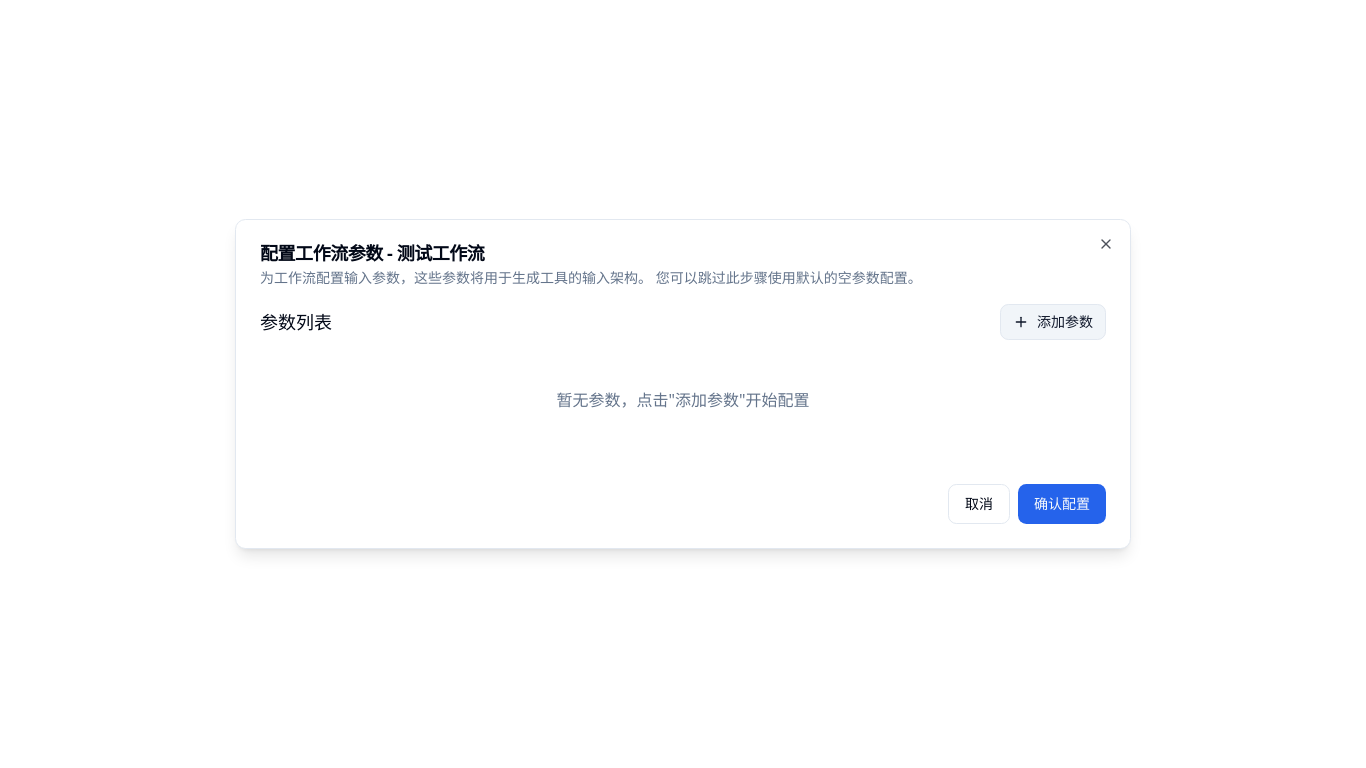
WorkflowParameterConfigDialog › 应该验证描述不能为空
Click the button "添加参数" at (1053, 322), box [1000,304,1106,340]
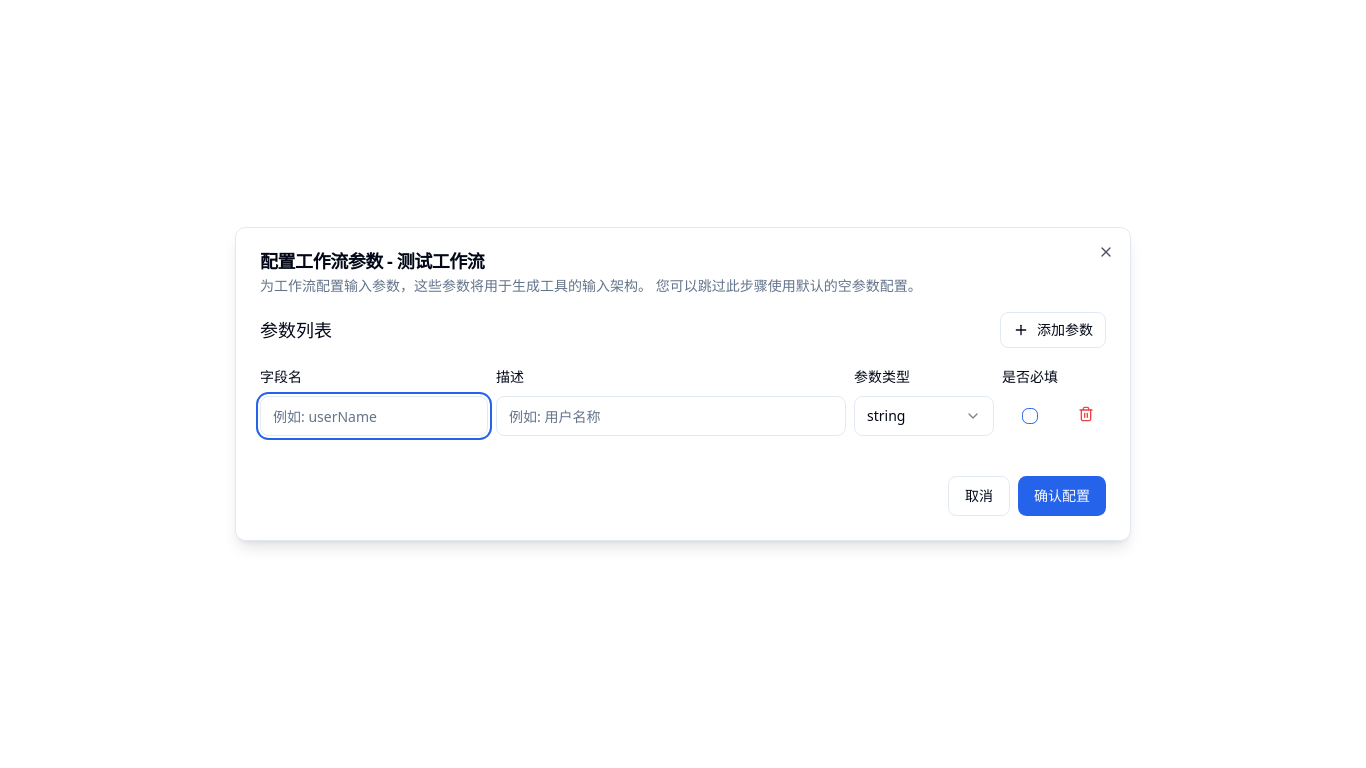
// 只填写字段名，不填写描述
Type "validFieldName" into the field with placeholder "例如: userName" at (374, 416), box [260,396,488,436]
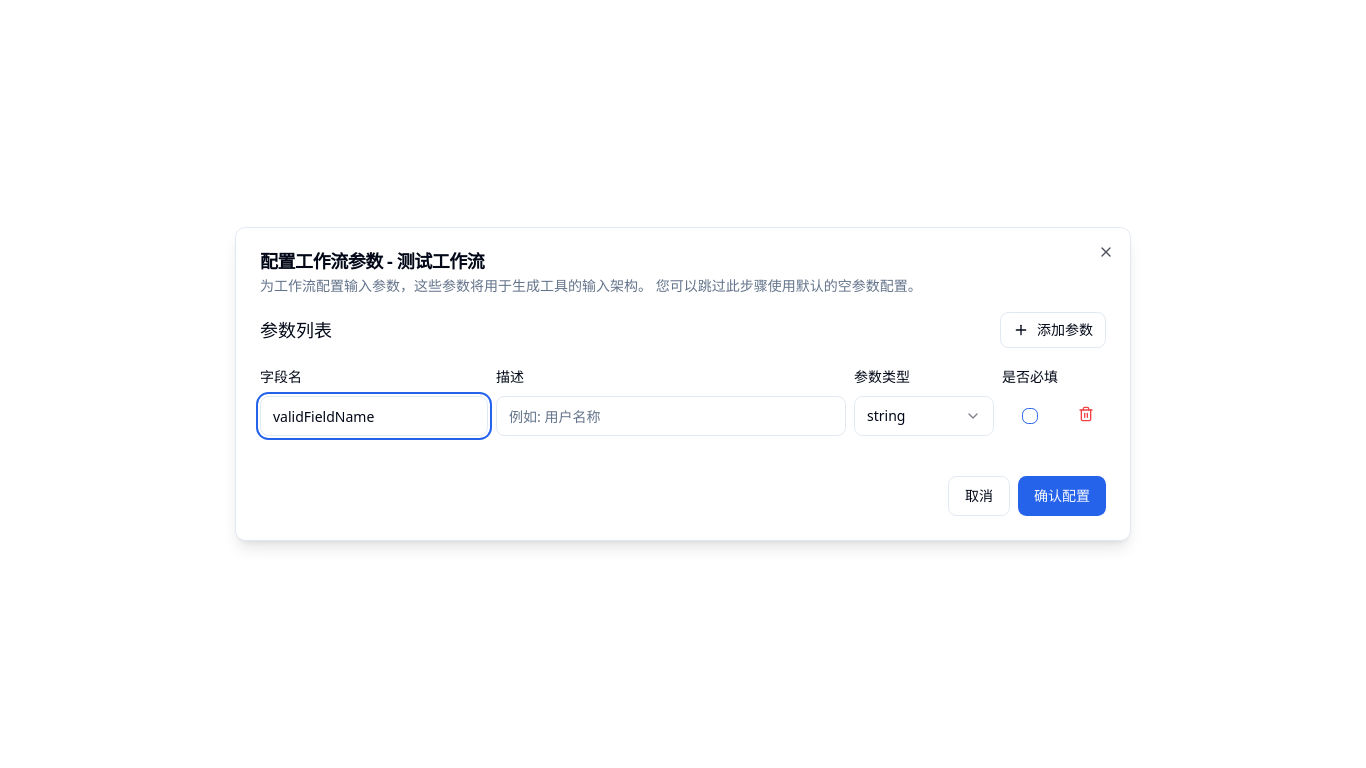
Click the button "确认配置" at (1062, 496), box [1018,476,1106,516]
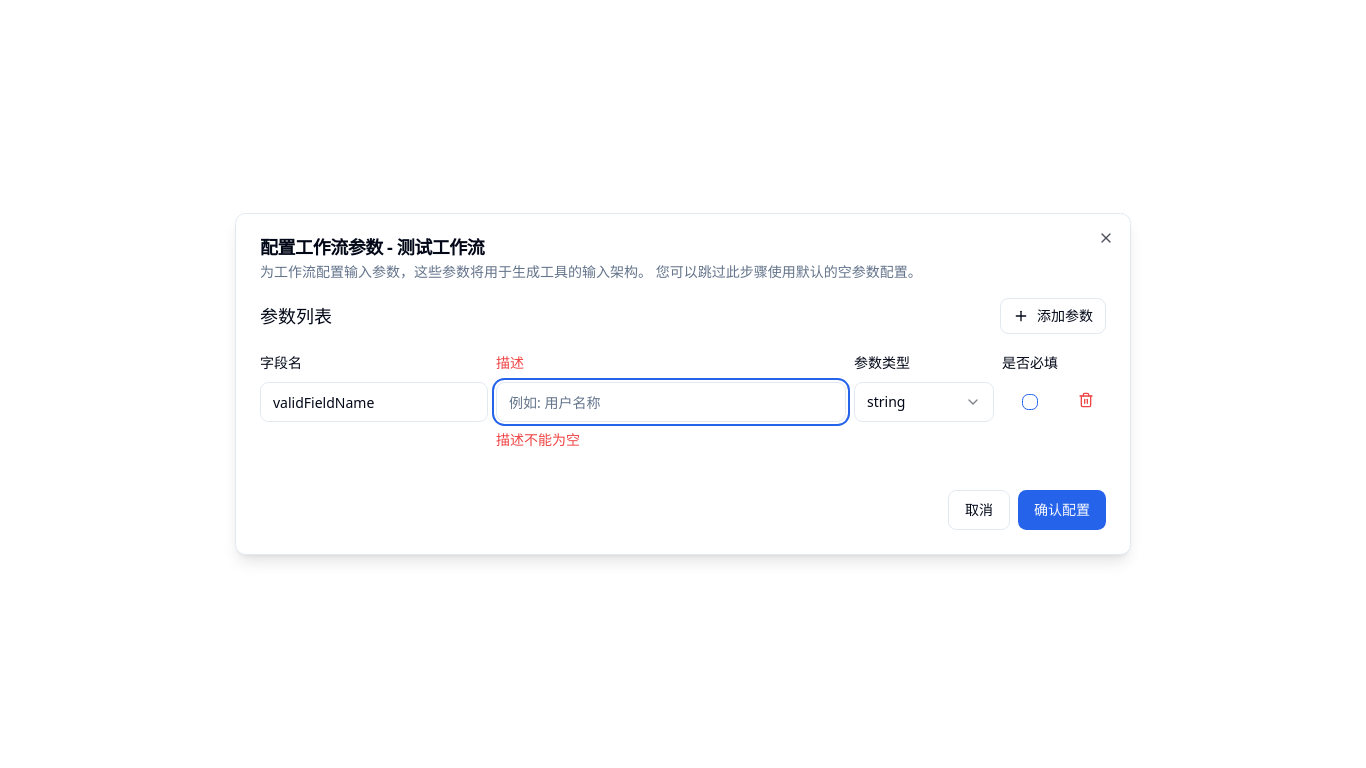
Check: the text "描述不能为空" is shown, box [496,430,580,449]
